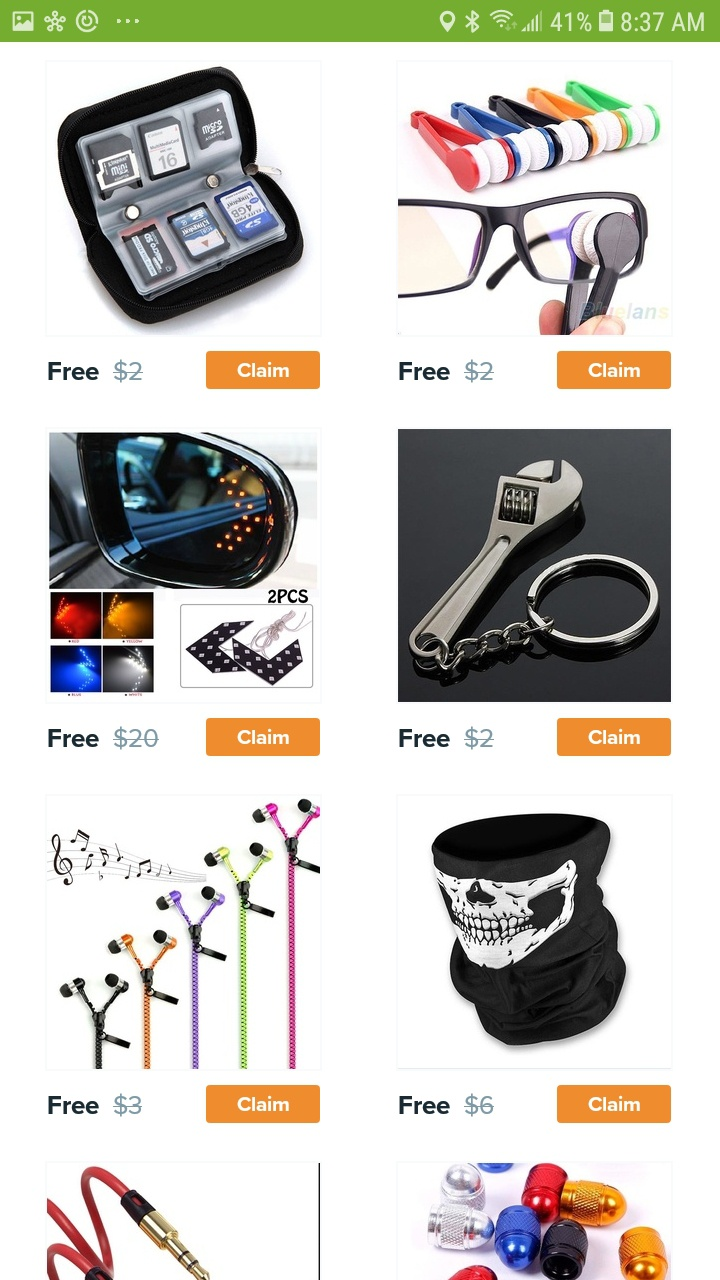Image: (45, 60, 323, 338), (45, 794, 323, 1072), (46, 427, 323, 705), (396, 61, 673, 338), (395, 794, 673, 1069), (398, 429, 672, 703), (395, 1160, 673, 1280), (46, 1161, 321, 1280)
Text: (48, 726, 160, 751), (48, 359, 144, 384), (399, 359, 495, 384), (399, 726, 495, 751), (399, 1092, 495, 1117), (48, 1093, 143, 1118)
TextButton: (206, 1084, 321, 1123), (206, 718, 321, 757), (206, 351, 321, 390), (557, 718, 671, 757), (557, 1085, 671, 1123), (557, 352, 671, 390)
UpperTaskBar: (1, 1, 720, 43)
